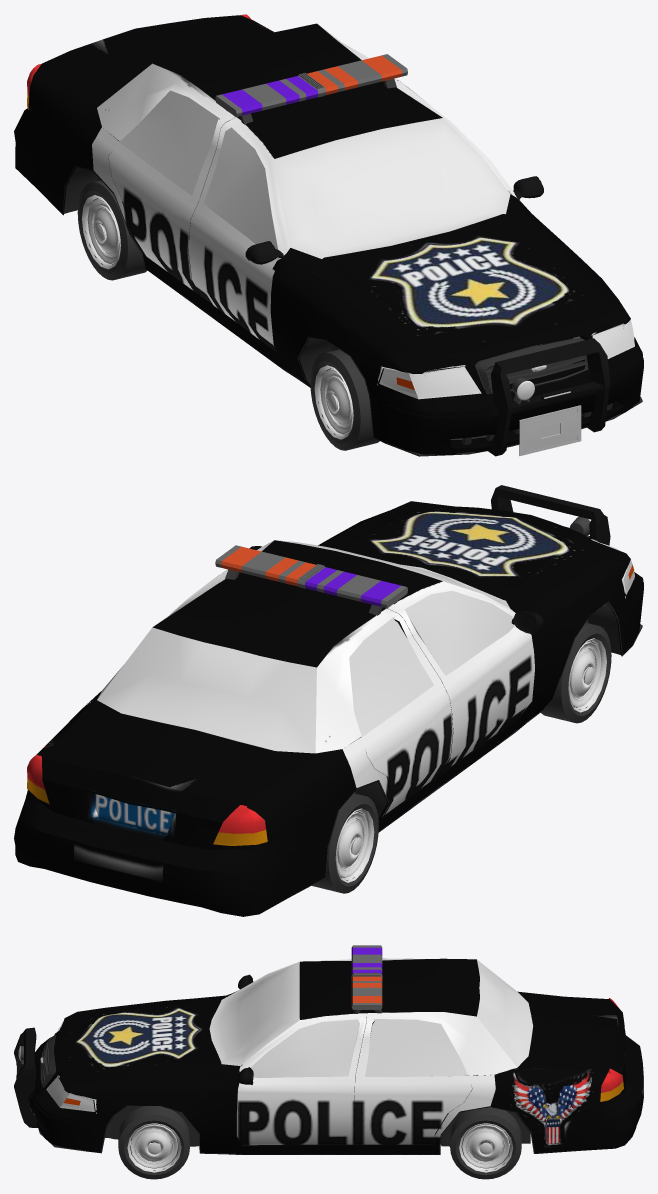
File: ford_crown_victoria_police_interceptor.fbx
3 renders of one model, top to bottom at view 1: azimuth 30°, elevation 25°; view 2: azimuth 150°, elevation 25°; view 3: azimuth 270°, elevation 25°, orthographic. The views are drawn at different scales.
Parts seen in each view (by area): view 1: DEF-Body.001, DEF-Body.003, DEF-Body.010; view 2: DEF-Body.001, DEF-Body.003, DEF-Body.010; view 3: DEF-Body.001, DEF-Body.008, DEF-Body.004.
Boxes of the visible parts, box(x1,y1,x2,y2) form: DEF-Body.001: box(14, 14, 643, 456); DEF-Body.003: box(310, 349, 379, 450); DEF-Body.010: box(77, 180, 147, 280); DEF-Body.001: box(14, 485, 643, 916); DEF-Body.003: box(540, 622, 611, 723); DEF-Body.010: box(312, 793, 378, 893); DEF-Body.001: box(14, 945, 643, 1154); DEF-Body.008: box(118, 1106, 189, 1179); DEF-Body.004: box(450, 1107, 521, 1179).
Size of the model in its own units: 211 by 156 by 551.
